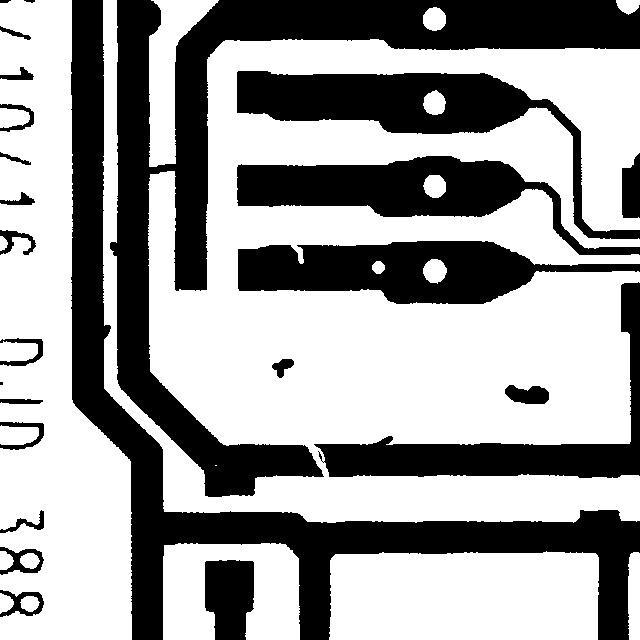copper: (495, 375, 558, 413), (262, 349, 303, 387)
mousebite: (281, 233, 313, 273)
open: (292, 430, 338, 487)
pin-hole: (362, 251, 394, 283)
short: (135, 154, 191, 183)
spur: (362, 426, 402, 458), (100, 232, 131, 265), (91, 315, 120, 348)
